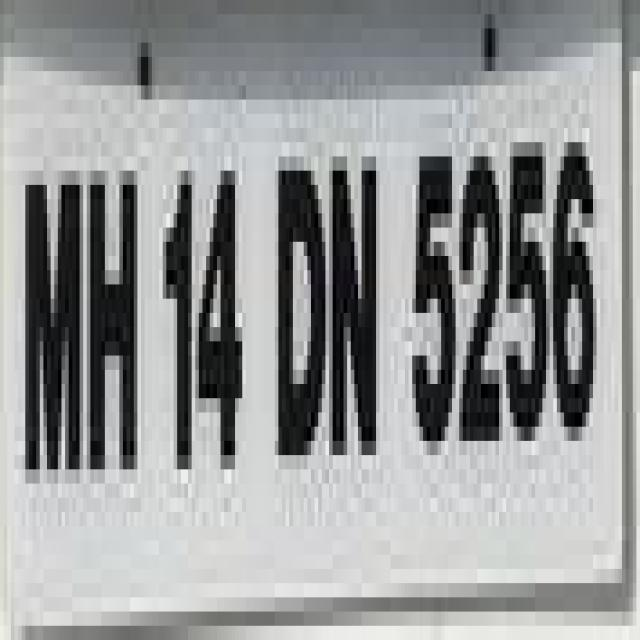plate: (0, 0, 611, 626)
